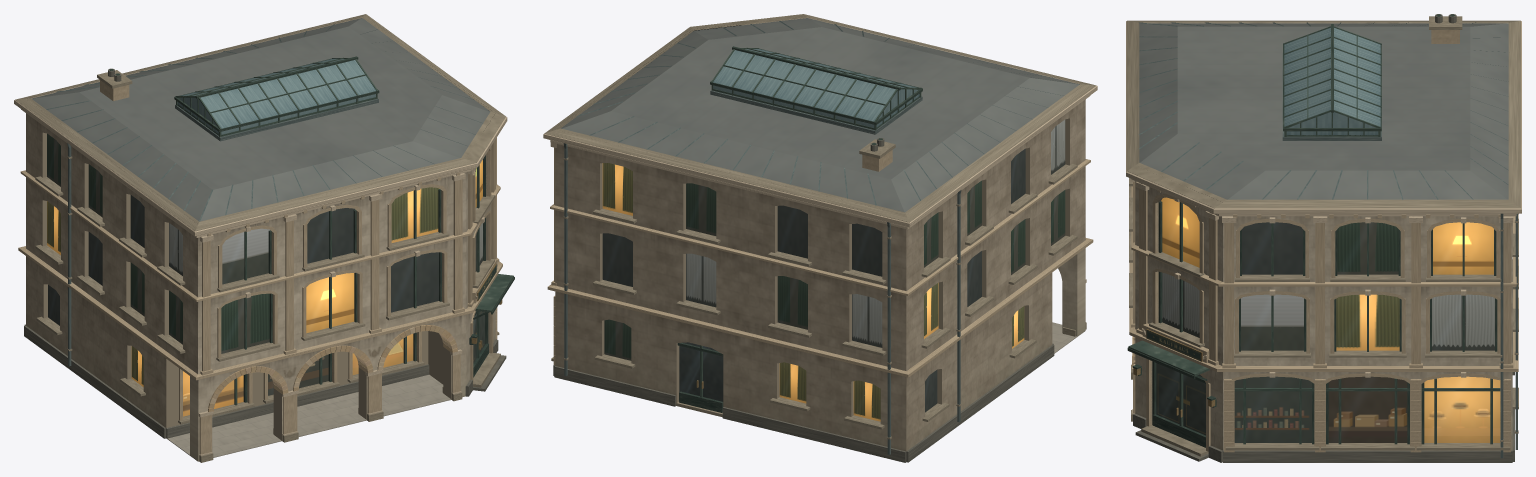
File: corner_mall.gltf
The picture shows the model from 3 angles, left to right: view 1: azimuth 30°, elevation 25°; view 2: azimuth 150°, elevation 25°; view 3: azimuth 270°, elevation 25°; orthographic projection. The views are drawn at different scales.
Visible parts, largest first — view 1: corner_department_store_merged; view 2: corner_department_store_merged; view 3: corner_department_store_merged.
Part boxes in pixels (bbox=[...]): corner_department_store_merged: bbox=[14, 14, 514, 462]; corner_department_store_merged: bbox=[543, 14, 1097, 462]; corner_department_store_merged: bbox=[1126, 14, 1521, 462].
Size of the model in its own units: 18 by 13.58 by 16.
Materials: 1 (1 with a texture image).
